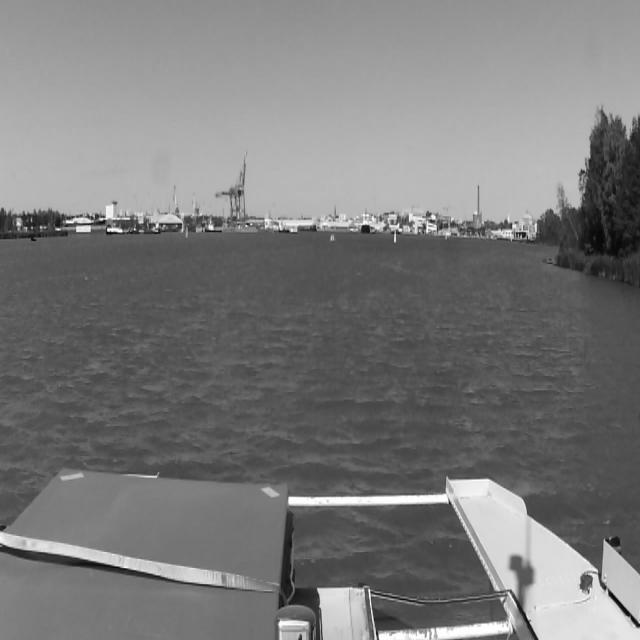buoy: (393, 228, 397, 245), (185, 224, 189, 240), (444, 233, 447, 241)
ship: (349, 213, 385, 232), (361, 208, 369, 234), (329, 233, 335, 242)
